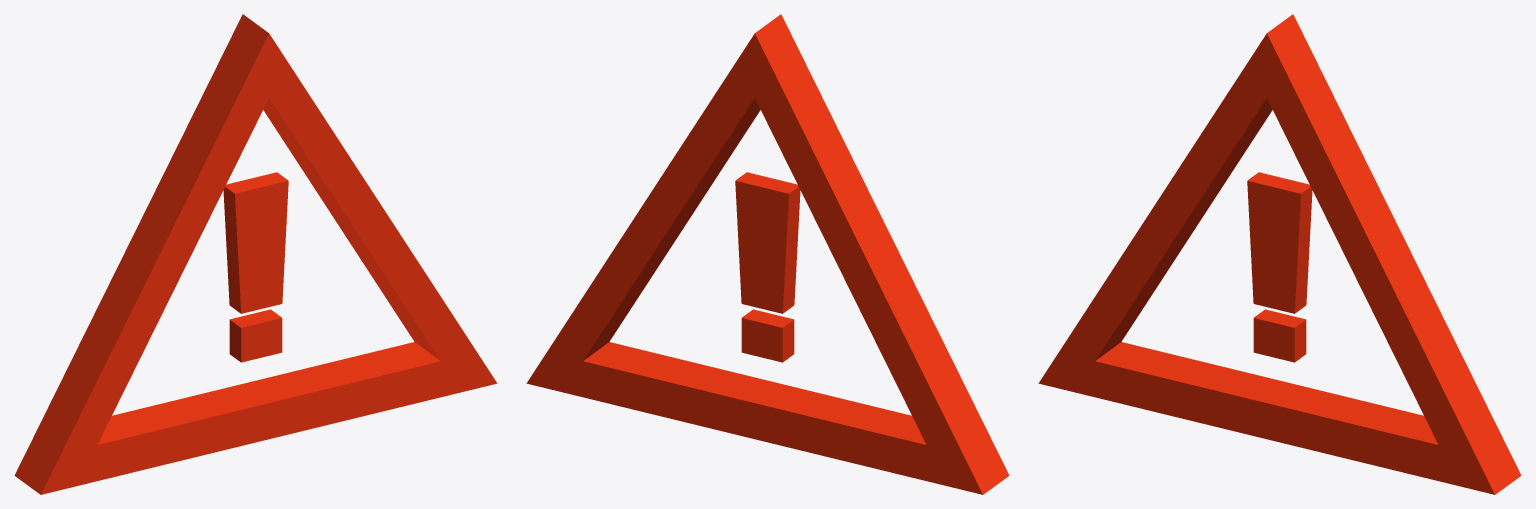
Rendered from Warning.obj.
3 views of the same model, side by side, from view 1: azimuth 30°, elevation 25°; view 2: azimuth 150°, elevation 25°; view 3: azimuth 330°, elevation 25° (orthographic).
Parts seen in each view (by area): view 1: 96_Triangle, 39_Exclamasion; view 2: 96_Triangle, 39_Exclamasion; view 3: 96_Triangle, 39_Exclamasion.
Part boxes in pixels (x1=…): 96_Triangle: x1=14, y1=14, x2=497, y2=494; 39_Exclamasion: x1=223, y1=172, x2=288, y2=362; 96_Triangle: x1=526, y1=14, x2=1009, y2=494; 39_Exclamasion: x1=735, y1=172, x2=800, y2=362; 96_Triangle: x1=1038, y1=14, x2=1521, y2=494; 39_Exclamasion: x1=1247, y1=172, x2=1312, y2=362.
Size of the model in its own units: 1.18 by 1 by 0.1182.
